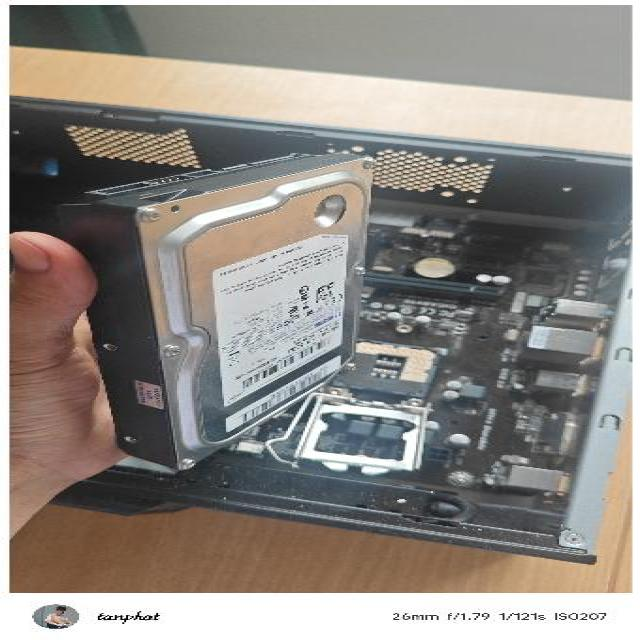DISK: (51, 148, 384, 474)
